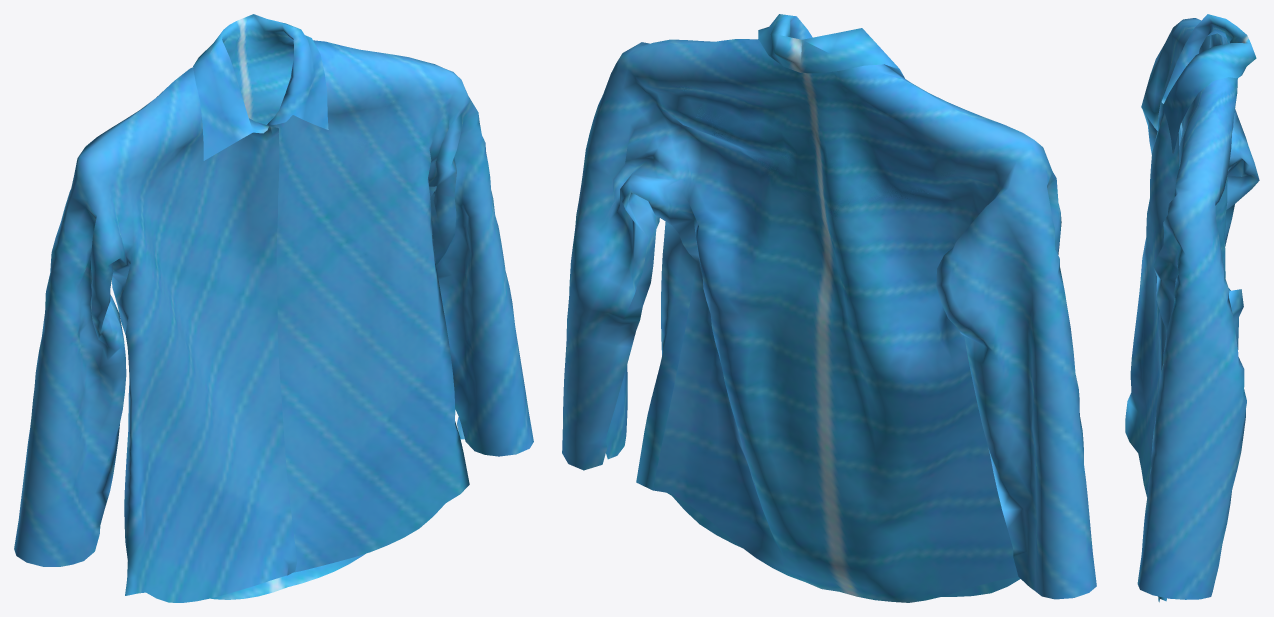
File: ShirtOrgazied_Skyblue.fbx
3 renders of one model, left to right at view 1: azimuth 30°, elevation 25°; view 2: azimuth 150°, elevation 25°; view 3: azimuth 270°, elevation 25°, orthographic. The views are drawn at different scales.
Parts seen in each view (by area): view 1: ShirtOrganized_Skyblue; view 2: ShirtOrganized_Skyblue; view 3: ShirtOrganized_Skyblue.
Part boxes in pixels (<box>): ShirtOrganized_Skyblue: <box>14,14,533,602</box>; ShirtOrganized_Skyblue: <box>562,14,1096,602</box>; ShirtOrganized_Skyblue: <box>1125,14,1259,602</box>.
Bounding box in the file's own units: 59.86 × 62.82 × 14.29.
